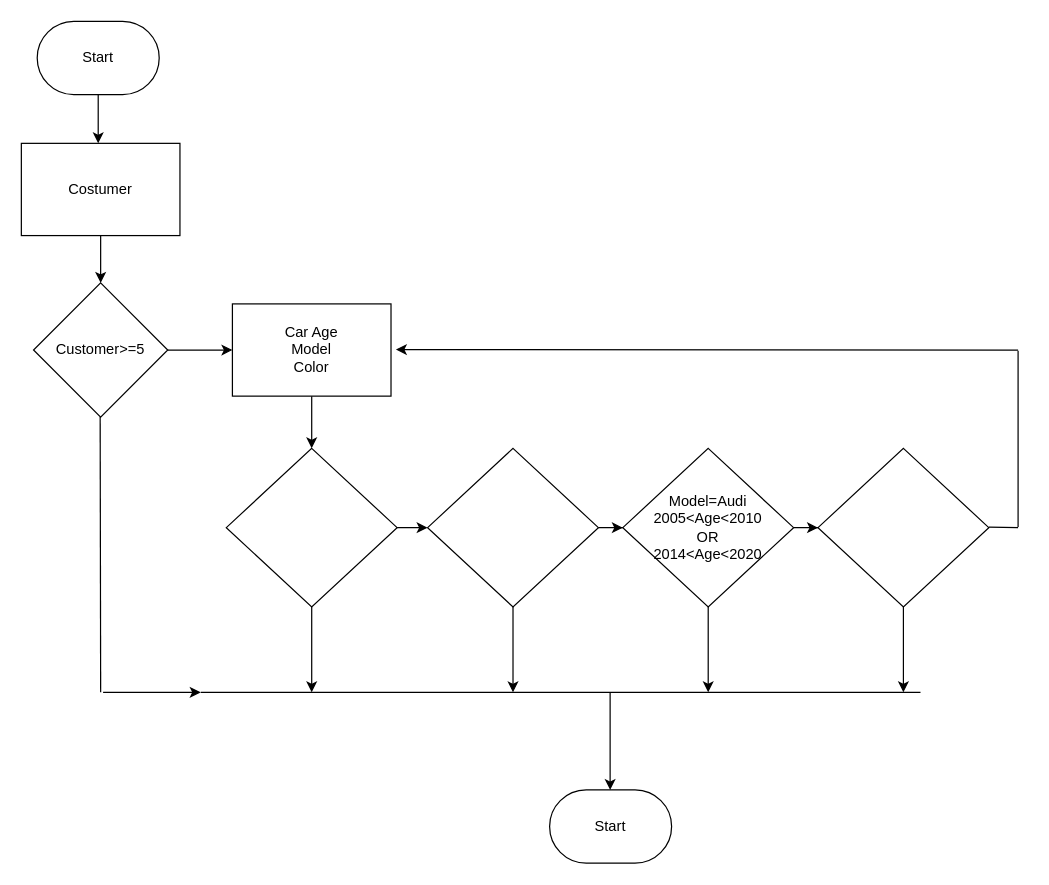
This 1049x885 diagram has some shape labels left out. The shapes that lost their labels are listed below. From the top down, each one's centre as x and y in pixels, then its label:
At (311,527): "Yas>=20 AND model=BMW AND renk=Bl".
At (512,527): "Model=BMW 2010<Age<2019 AND Color=B".
At (903,527): "Model=VW 2001<Age<2018 AND Color=Bl".
